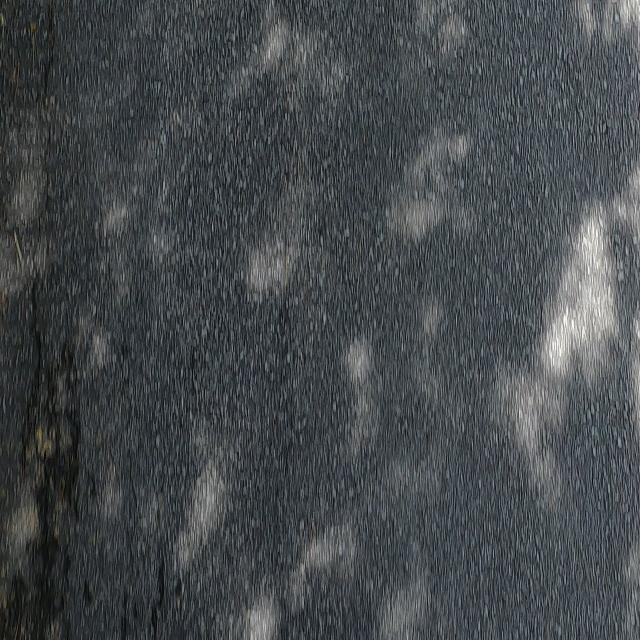Retak-Memanjang: (18, 11, 62, 475)
